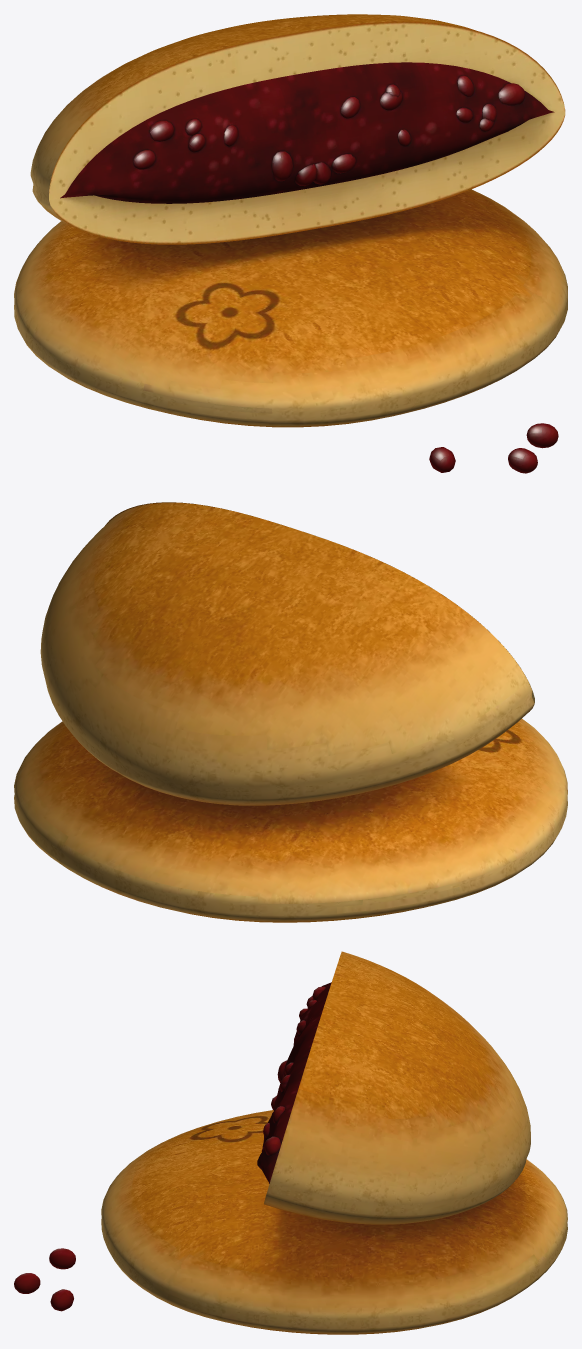
Rendered from pancake--redbean-swirl.glb.
The picture shows the model from 3 angles, top to bottom: view 1: azimuth 30°, elevation 25°; view 2: azimuth 150°, elevation 25°; view 3: azimuth 270°, elevation 25°; orthographic projection. The views are drawn at different scales.
Parts seen in each view (by area): view 1: pancake_redbean-swirl; view 2: pancake_redbean-swirl; view 3: pancake_redbean-swirl.
Boxes of the visible parts, x1,y1,x2,y2 form: pancake_redbean-swirl: (14,14,567,473); pancake_redbean-swirl: (14,502,567,922); pancake_redbean-swirl: (14,951,567,1334).
Size of the model in its own units: 0.9632 by 0.6105 by 1.12.
Materials: 1 (1 with a texture image).
